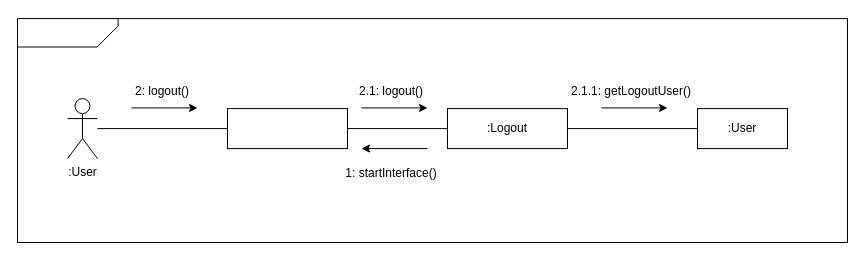
Some shapes in this 865 by 261 pixel diagram are drawn without their labels. Here are the shapes that lost their labels. From the top down, the box of each, then its label:
(16, 18, 118, 47): Logout
(226, 108, 348, 149): :LogoutUI
